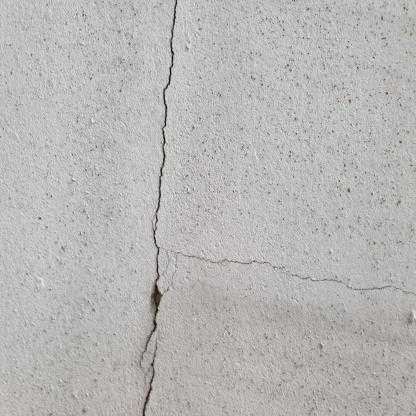crack: (141, 0, 178, 363), (162, 250, 415, 297), (142, 333, 160, 415)
